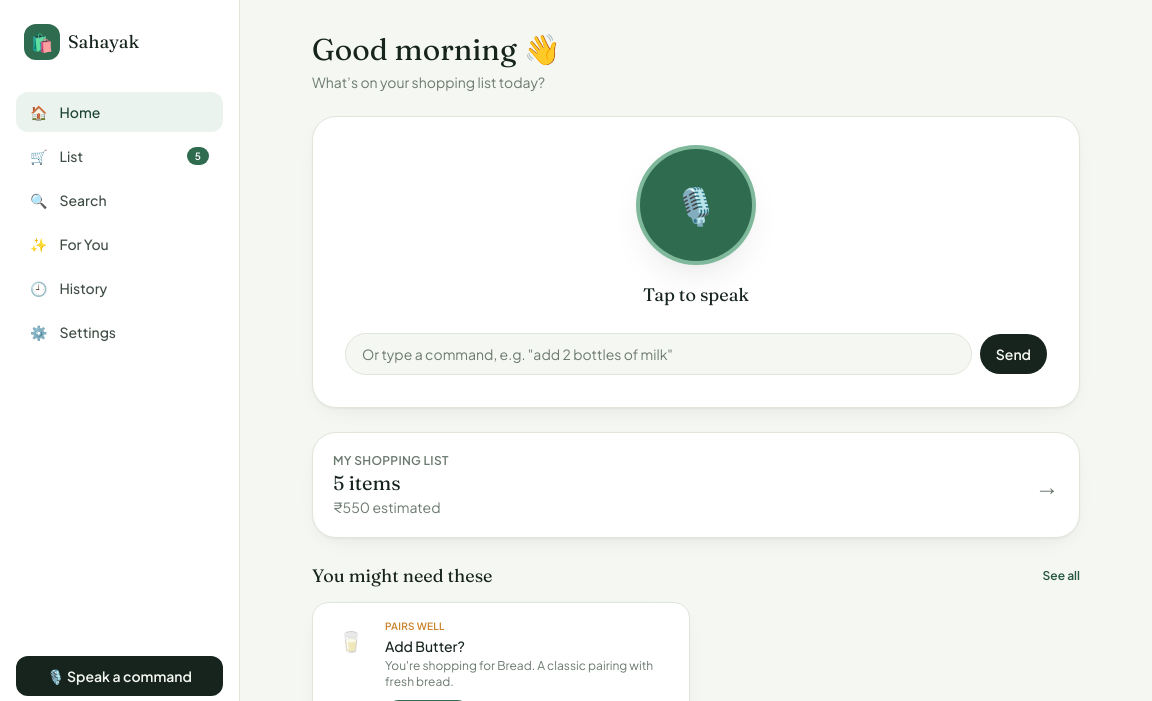
App smoke test › removes an item by voice-style text command
In the field with placeholder "Or type a command, e.g. \"add 2 bottles of milk\"": [658, 354] box [345, 333, 972, 375], type "Remove milk from my list"
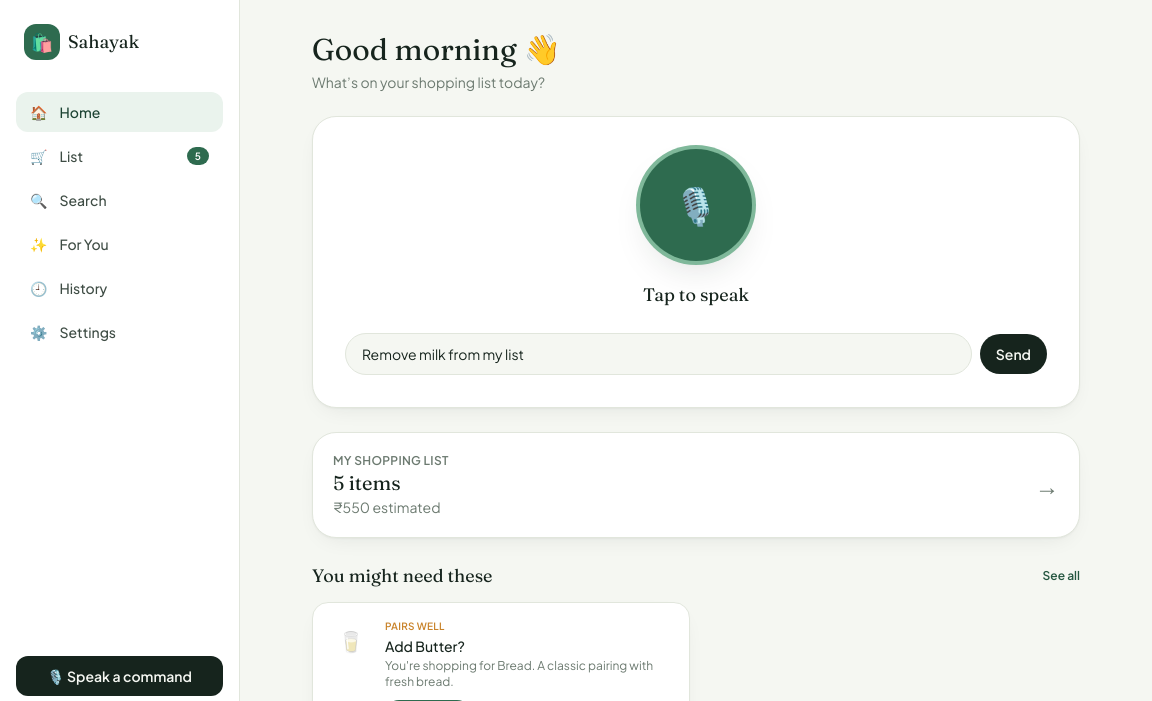
Submit the form with placeholder "add 2 bottles of milk", box [345, 333, 1047, 375]
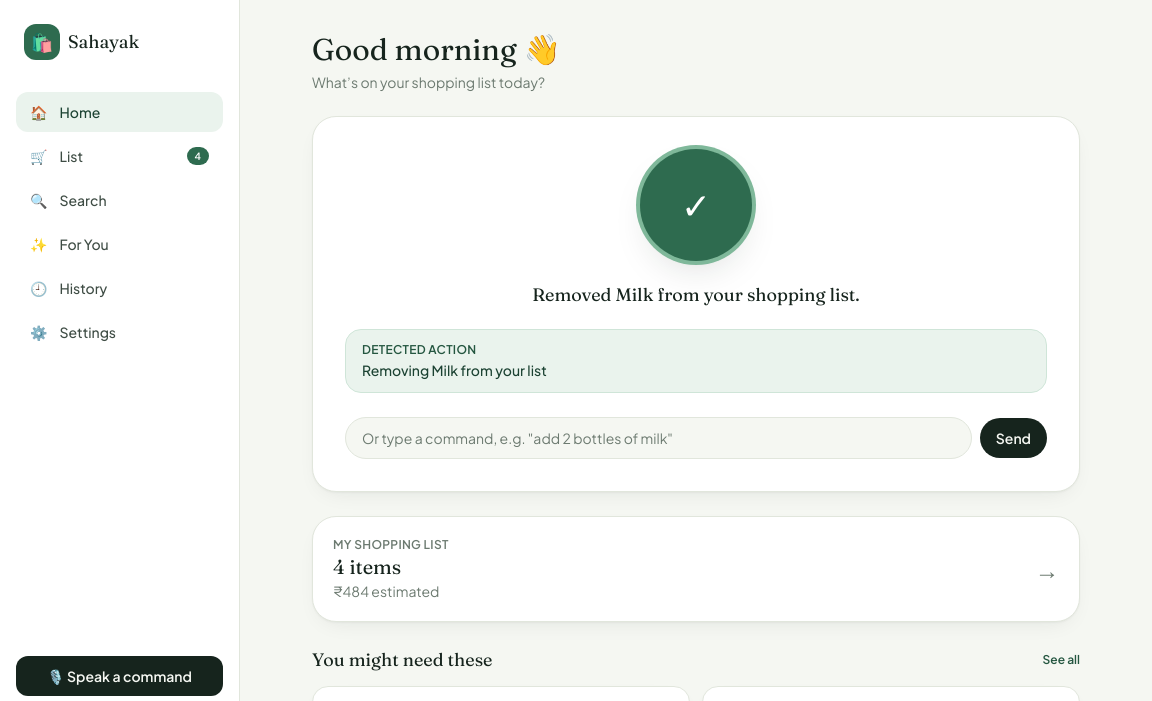
Now the text "Removed Milk from your shopping list." is shown, box [532, 281, 860, 309]
